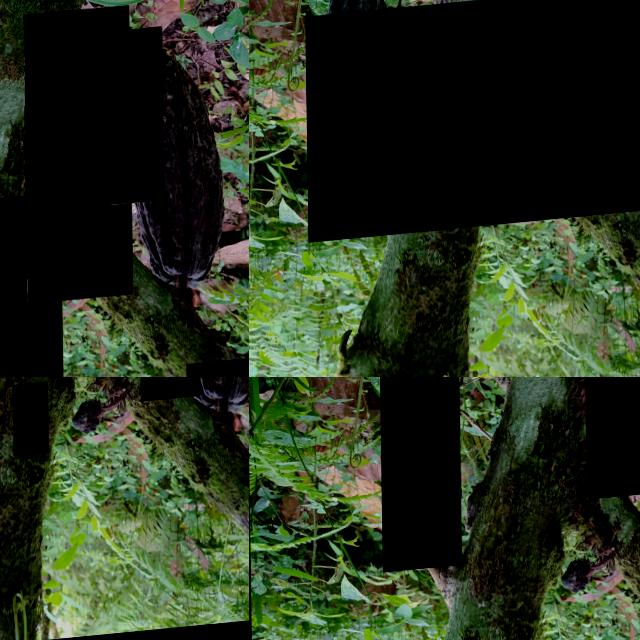Fitoftora: (304, 0, 640, 245), (23, 14, 132, 310), (378, 377, 460, 575), (0, 199, 63, 377), (107, 35, 163, 213), (583, 377, 640, 505)
Sana: (193, 377, 242, 495), (12, 388, 47, 461), (138, 377, 198, 408)
